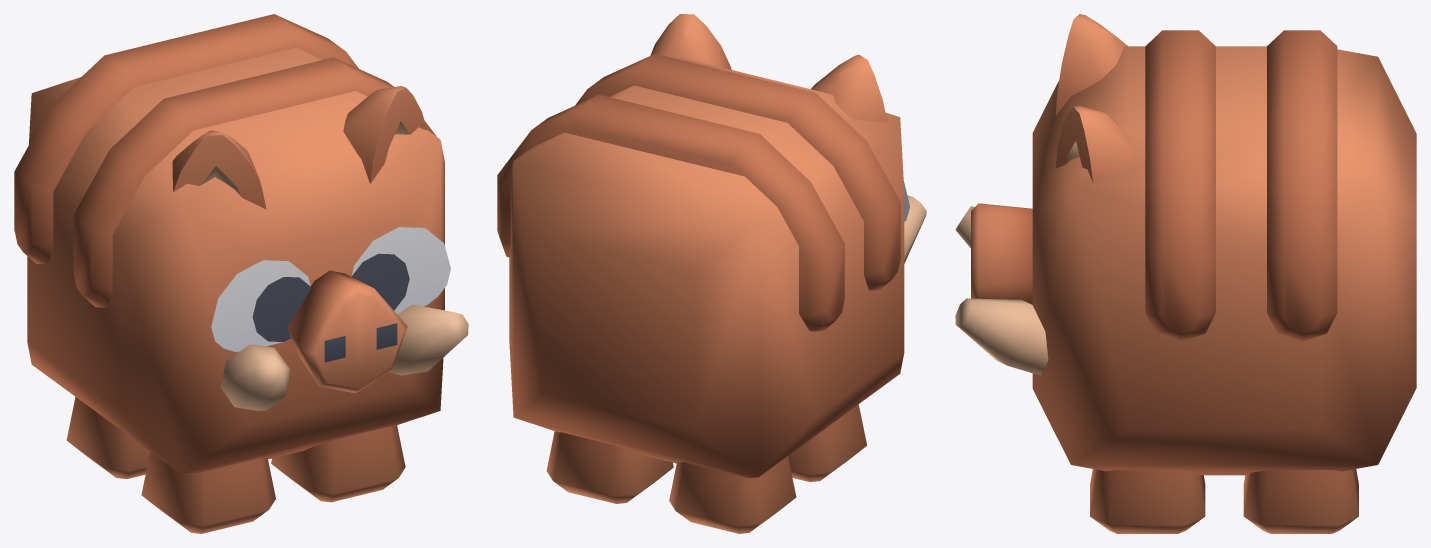
The model's file is animal-hog.obj.
3 renders of one model, left to right at view 1: azimuth 30°, elevation 25°; view 2: azimuth 150°, elevation 25°; view 3: azimuth 270°, elevation 25°, orthographic. The views are drawn at different scales.
Visible parts, largest first — view 1: body, leg-front-right, leg-front-left, leg-back-right; view 2: body, leg-back-right, leg-back-left, leg-front-right; view 3: body, leg-front-left, leg-back-left.
Part boxes in pixels (x1,y1,x2,y2): body: (14,14,468,474); leg-front-right: (141,452,275,533); leg-front-left: (271,425,405,502); leg-back-right: (66,397,150,479); body: (497,14,926,478); leg-back-right: (669,456,796,533); leg-back-left: (546,431,673,503); leg-front-right: (788,404,866,481); body: (955,14,1416,475); leg-front-left: (1090,469,1205,533); leg-back-left: (1243,469,1358,533).
Size of the model in its own units: 1.35 by 1.52 by 1.5.
